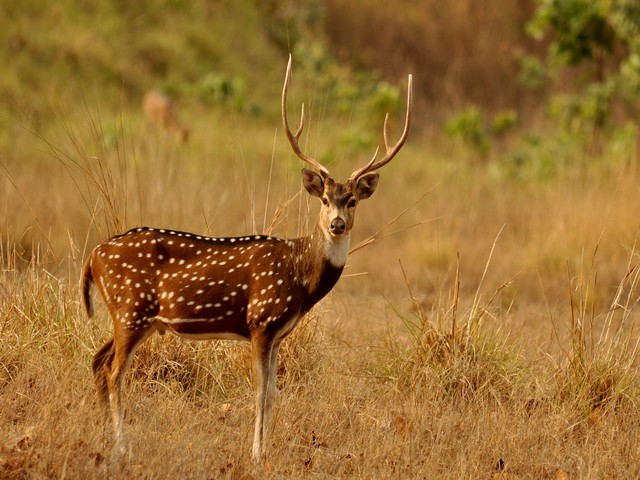deer: (77, 34, 422, 462)
